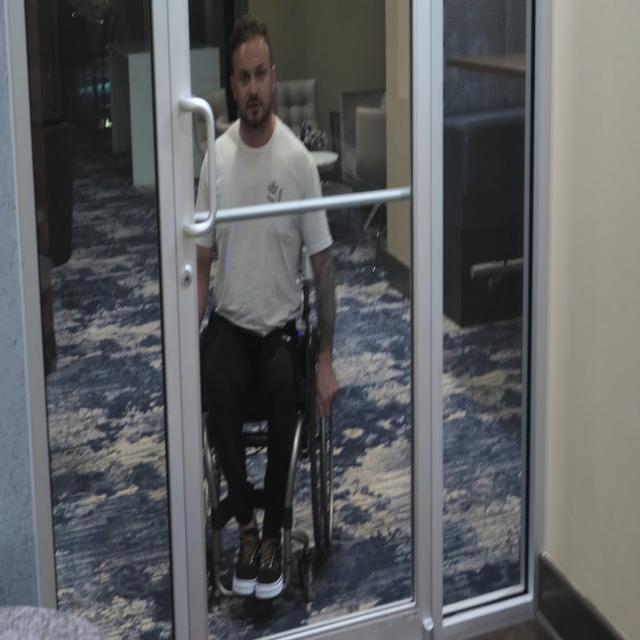wheelchairs: (187, 231, 339, 618)
